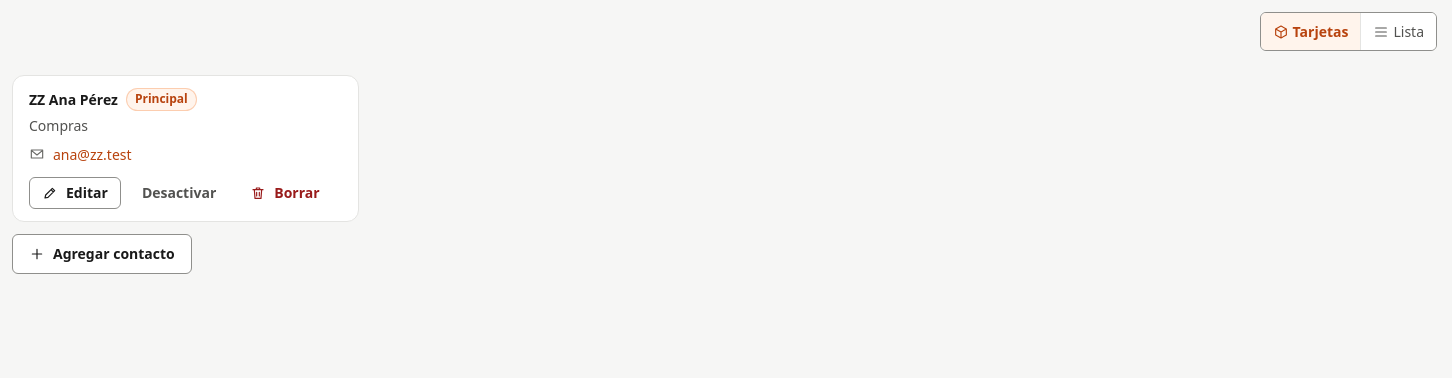
Test: EditorContactos · desactivar en vez de borrar › desactivar al principal le quita la marca en el formulario: es la regla del servidor
The width and height of the screenshot is (1452, 378).
Click the button "Editar" at (75, 193), box [29,177,121,209]
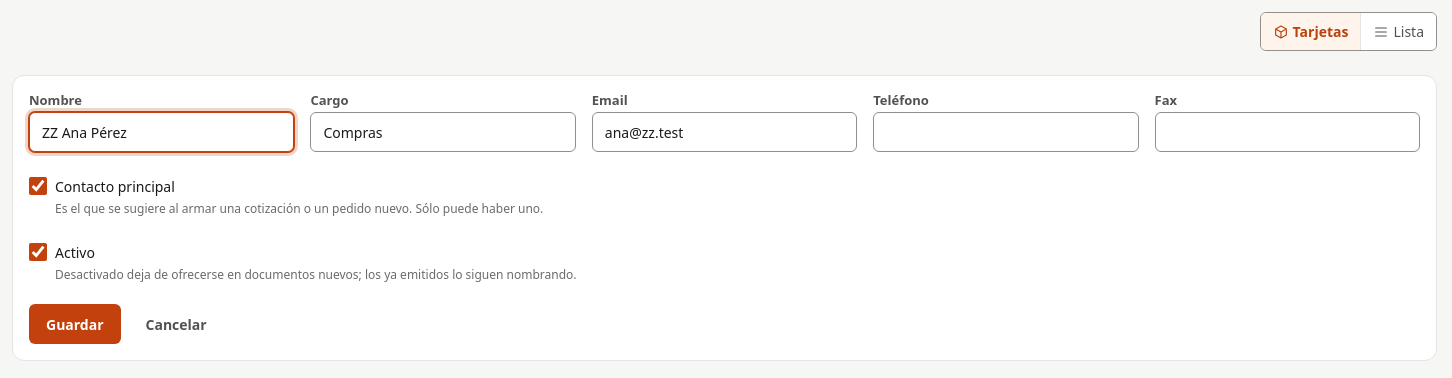
Check: the checkbox labelled "Contacto principal" is checked, box [29,177,47,195]
Click the checkbox labelled "Activo" at (38, 252), box [29,243,47,261]
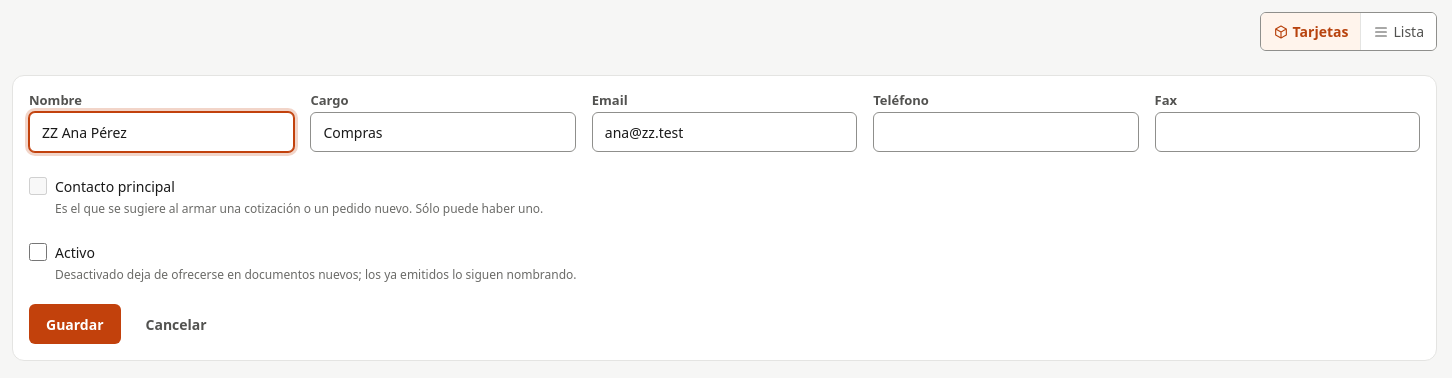
Check: the checkbox labelled "Contacto principal" is not checked, box [29,177,47,195]
Check: the checkbox labelled "Contacto principal" is disabled, box [29,177,47,195]
